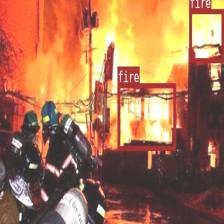fire: (117, 83, 176, 150), (188, 8, 224, 62)
